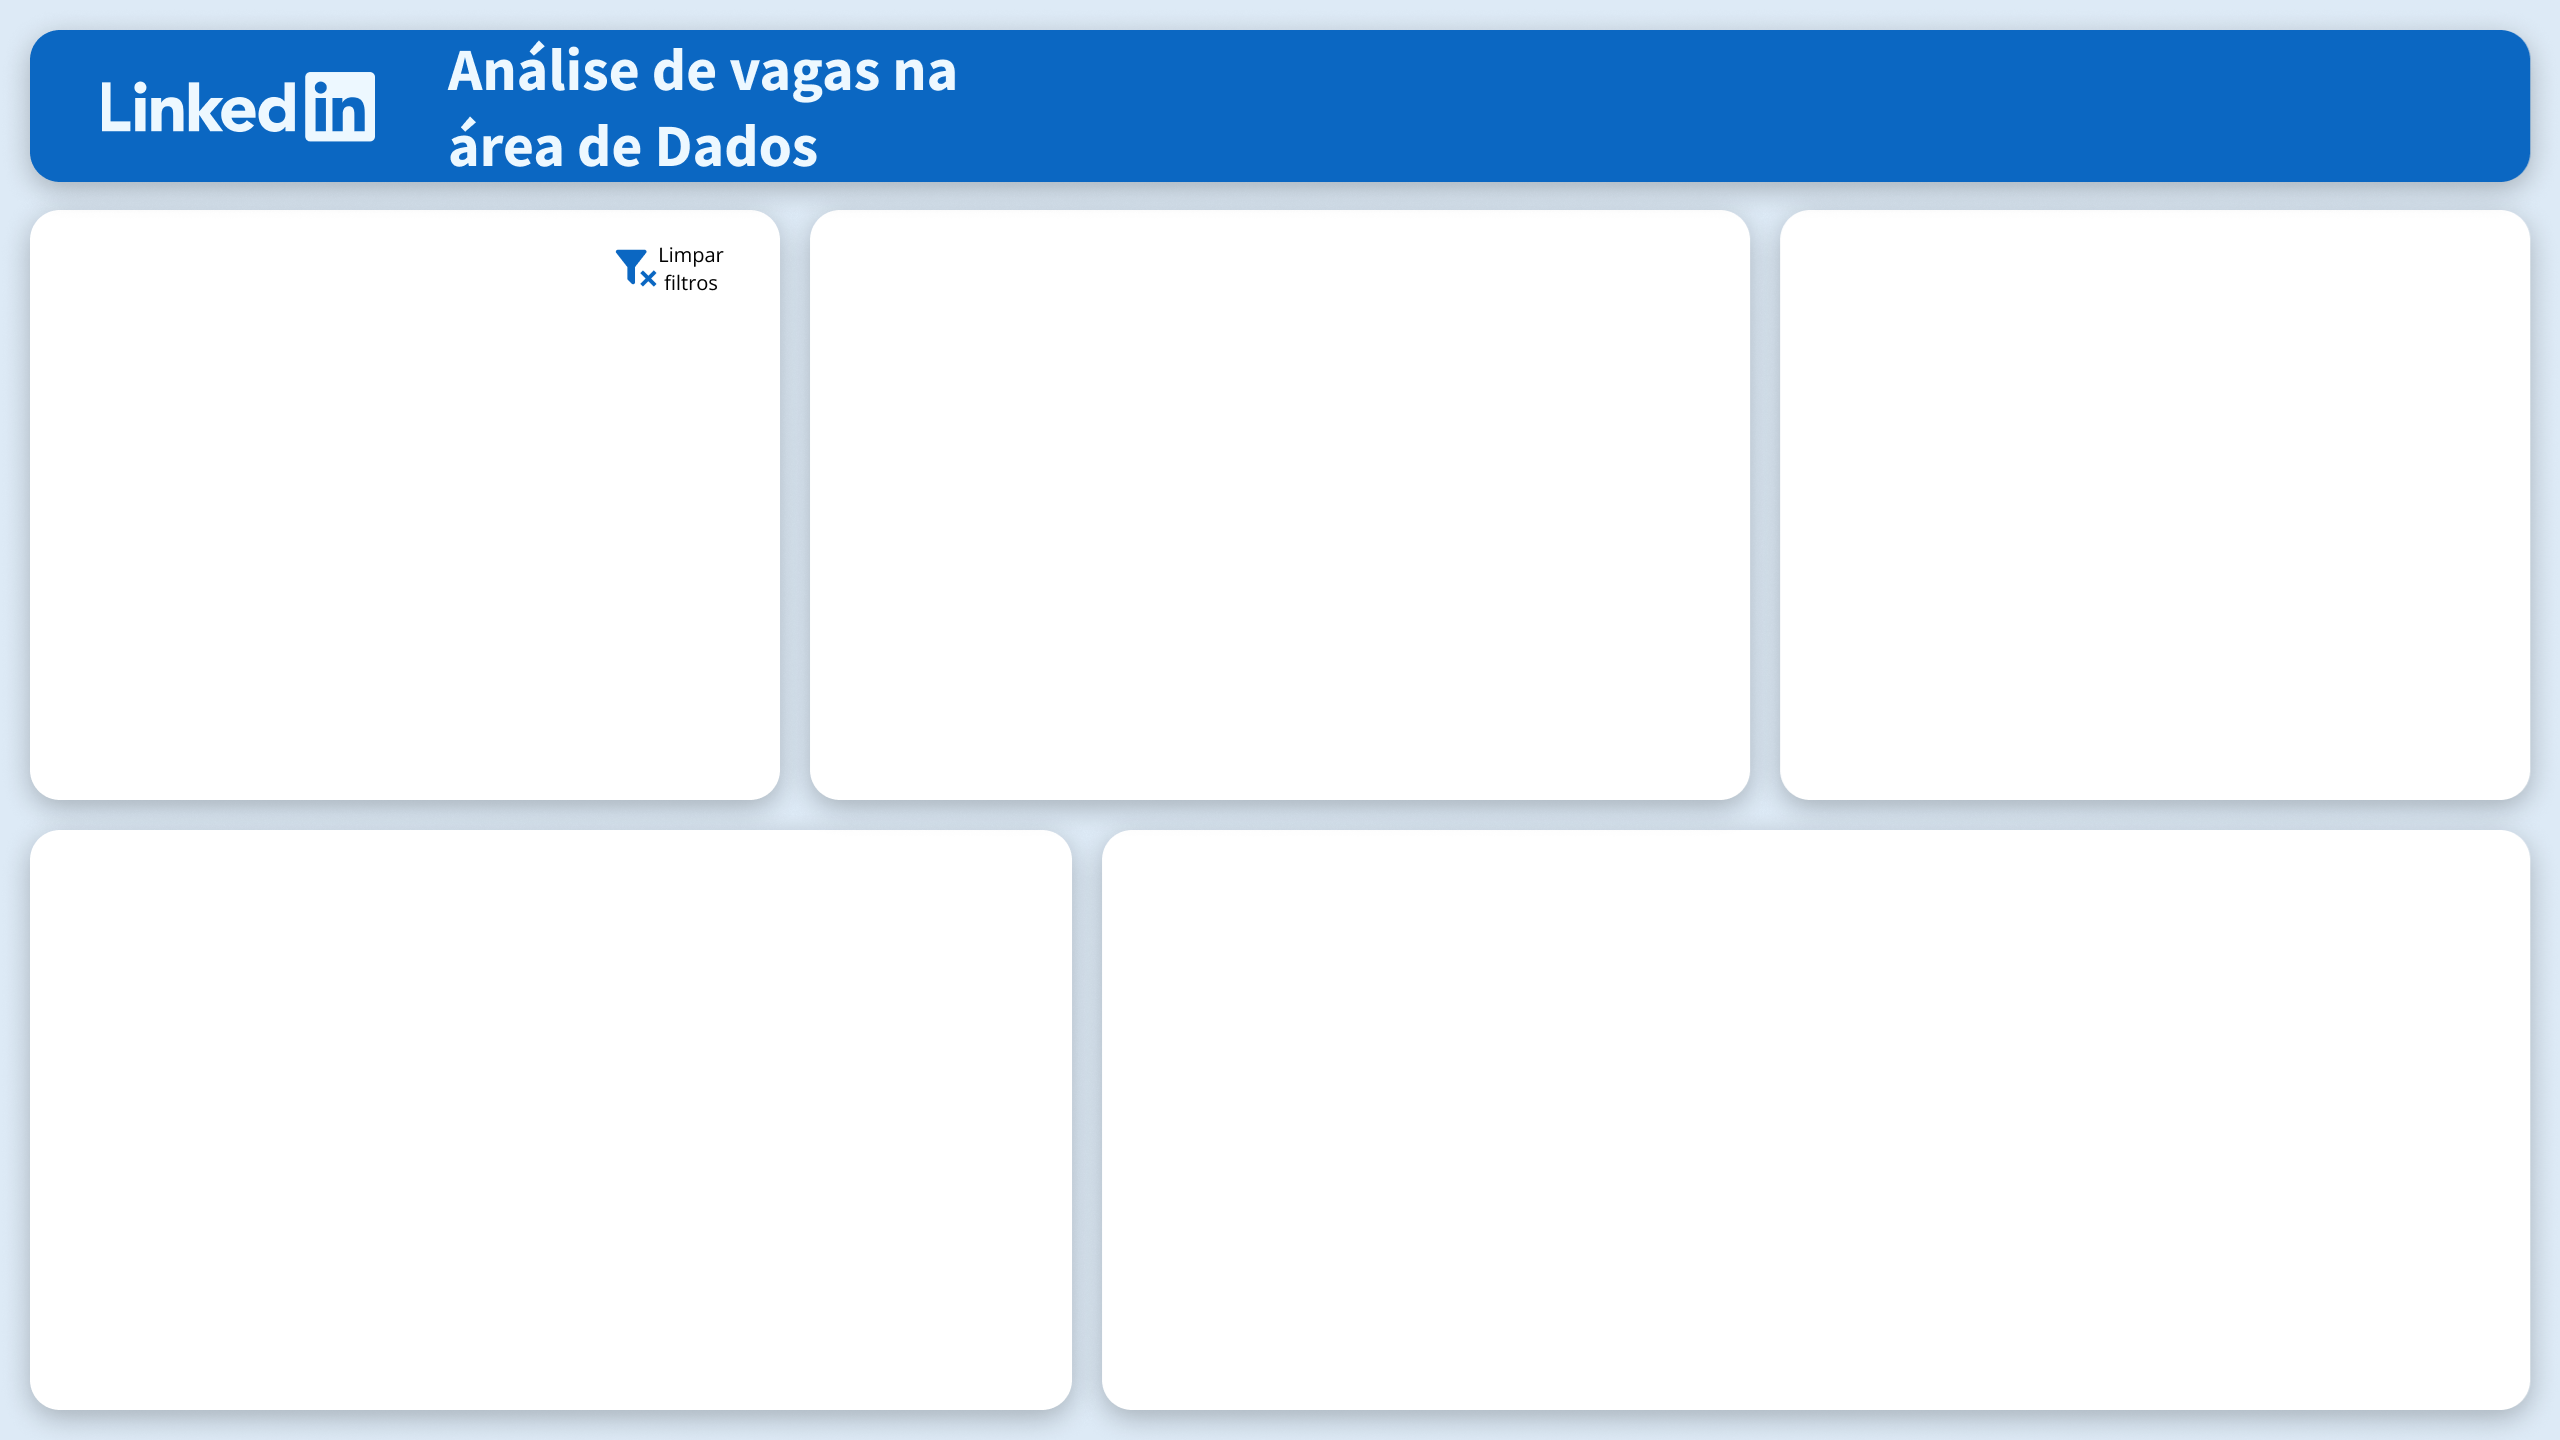

The dashboard page shown, as its layout file describes it:
{"tool":"powerbi","page":{"name":"Page 1","canvas":[1280,720],"ordinal":0},"visuals":[{"type":"donutChart","fields":{"Category":["df_jobs_classified.classified_job_title"],"Y":["CountNonNull(df_jobs_classified.classified_job_title)"]},"box":[0,0,555.9,369.1],"z":0},{"type":"barChart","fields":{"Category":["df_skills.skill"],"Y":["CountNonNull(df_skills.skill)"]},"box":[603,50.6,556.4,340.4],"z":1},{"type":"slicer","fields":{"Values":["df_jobs_classified.classified_job_title"]},"box":[0,379.3,409.5,340.4],"z":2}]}

Visuals, with their boxes in screenshot pixels (x1, y1, x2, y2), scaled from the page's 1280x720 canvas onto the 2560x1440 screenshot:
donutChart - df_jobs_classified.classified_job_title x CountNonNull(df_jobs_classified.classified_job_title): left=0, top=0, right=1112, bottom=738
barChart - df_skills.skill x CountNonNull(df_skills.skill): left=1206, top=101, right=2319, bottom=782
slicer - df_jobs_classified.classified_job_title: left=0, top=759, right=819, bottom=1439
